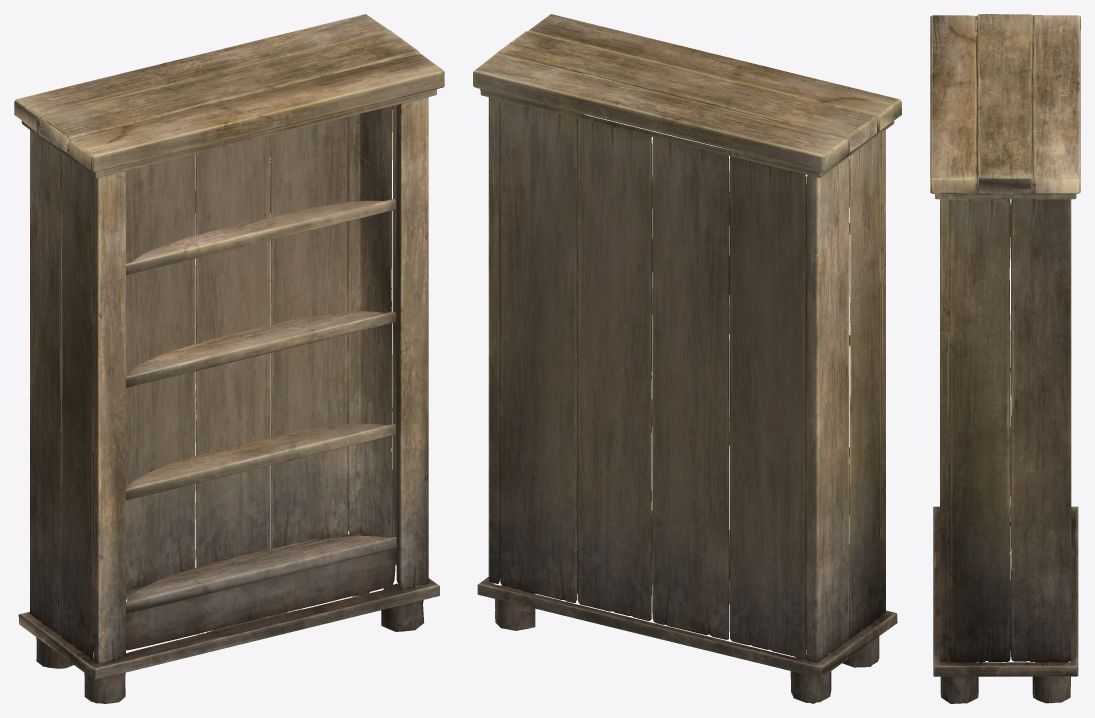
3 renders of one model, left to right at view 1: azimuth 30°, elevation 25°; view 2: azimuth 150°, elevation 25°; view 3: azimuth 270°, elevation 25°, orthographic. The views are drawn at different scales.
Visible parts, largest first — view 1: SM_Bookcase_01v1_LOD0; view 2: SM_Bookcase_01v1_LOD0; view 3: SM_Bookcase_01v1_LOD0.
Boxes of the visible parts, x1,y1,x2,y2 form: SM_Bookcase_01v1_LOD0: (14,14,444,703); SM_Bookcase_01v1_LOD0: (473,14,901,703); SM_Bookcase_01v1_LOD0: (930,14,1080,703).
Bounding box in the file's own units: 1.47 × 2.22 × 0.5689.
Materials: 1 (1 with a texture image).
